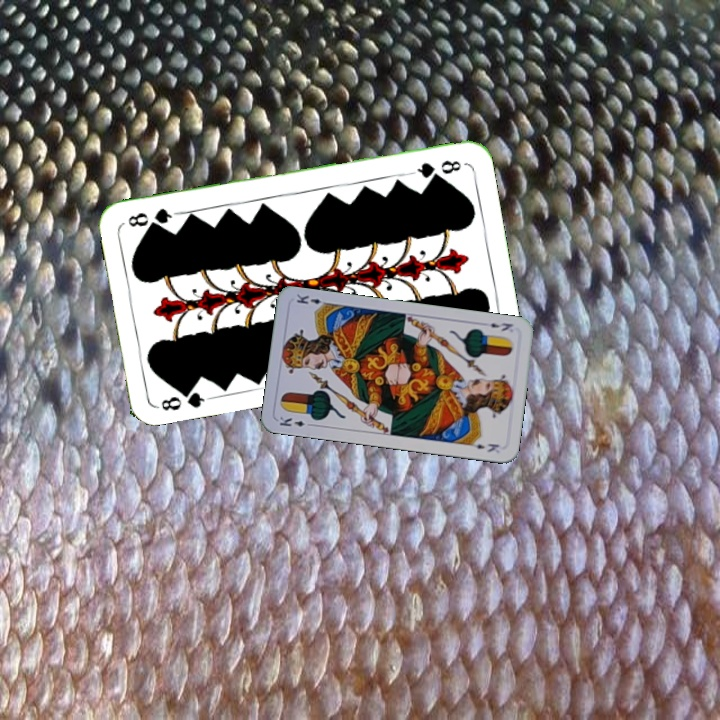EK: (276, 413, 316, 429), (486, 318, 515, 334)
G8: (154, 383, 213, 414), (408, 156, 464, 181)
